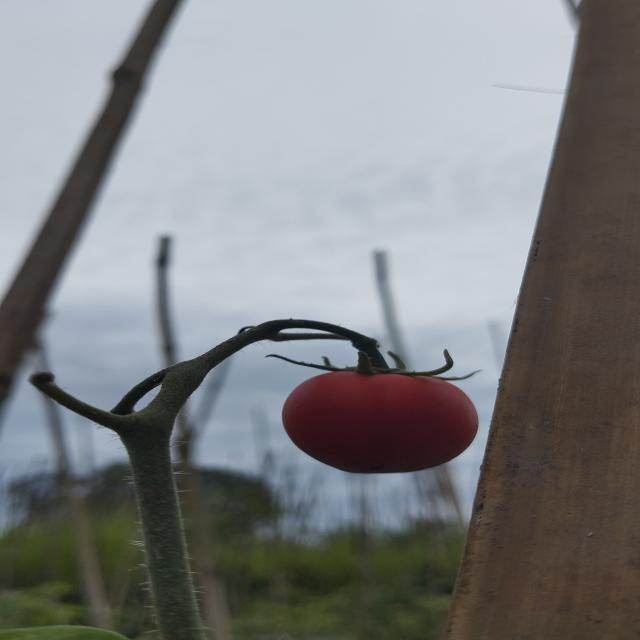Masak: (257, 347, 487, 487)
